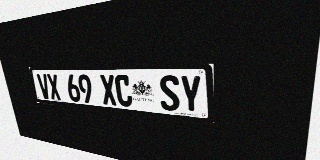6: (65, 74, 81, 102)
9: (77, 74, 94, 103)
C: (114, 75, 133, 107)
S: (159, 75, 180, 112)
V: (36, 74, 51, 99)
X: (99, 74, 117, 106), (46, 74, 62, 100)
Y: (179, 75, 202, 114)
